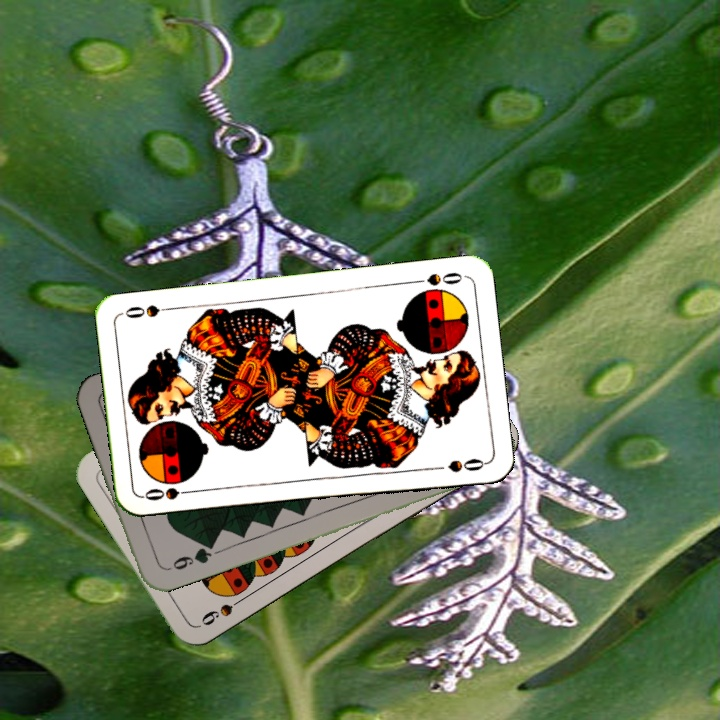G9: (161, 541, 216, 574)
S9: (197, 592, 249, 629)
SO: (140, 483, 199, 503), (408, 268, 467, 288)
